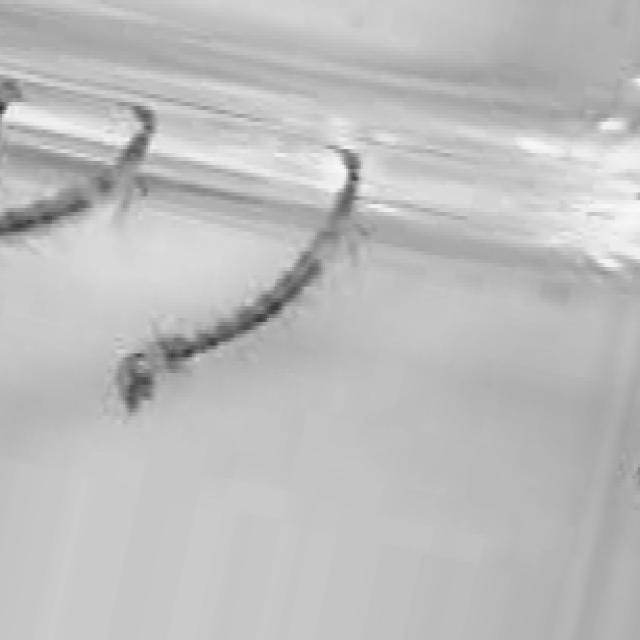larvas: (116, 138, 379, 430), (0, 110, 165, 273)
